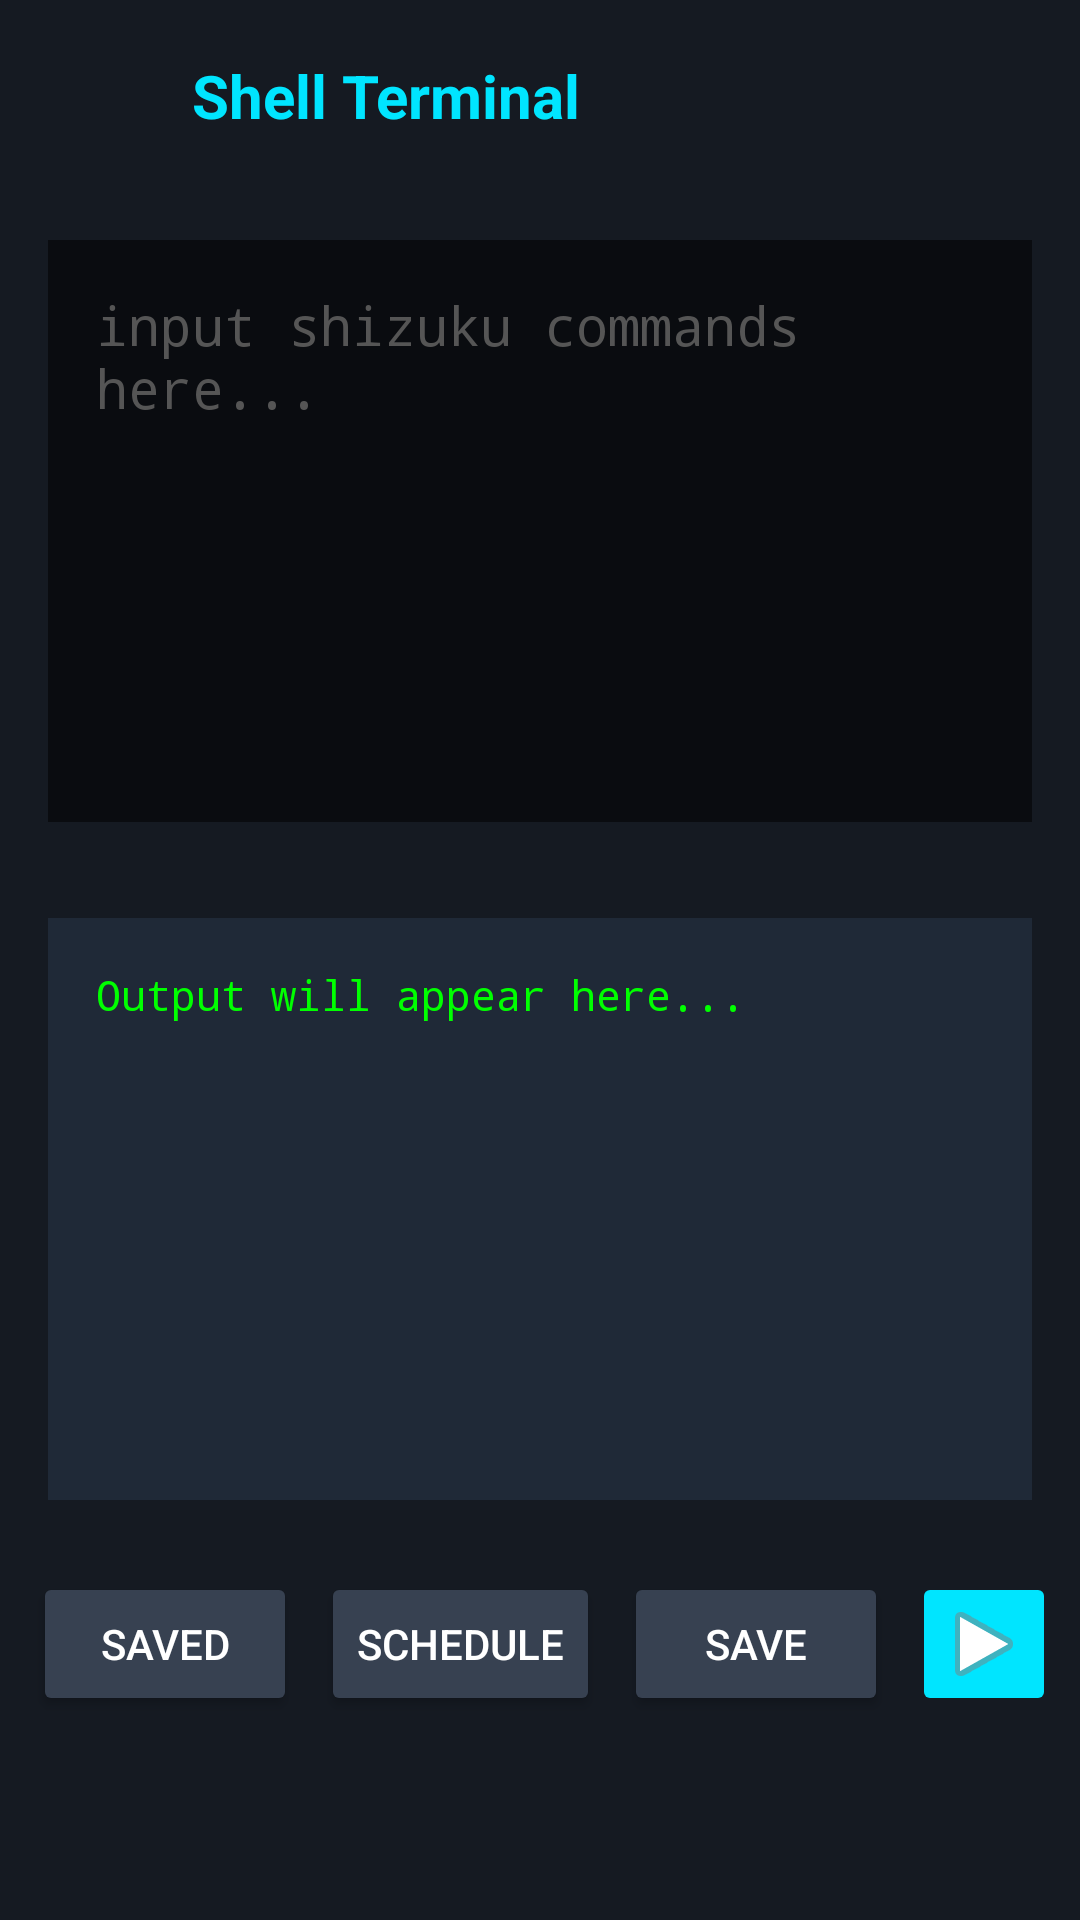

Icons on this 1080 × 1920 Android screen, each with the point to tap as point (x, y):
Run Script: point (984, 1644)
